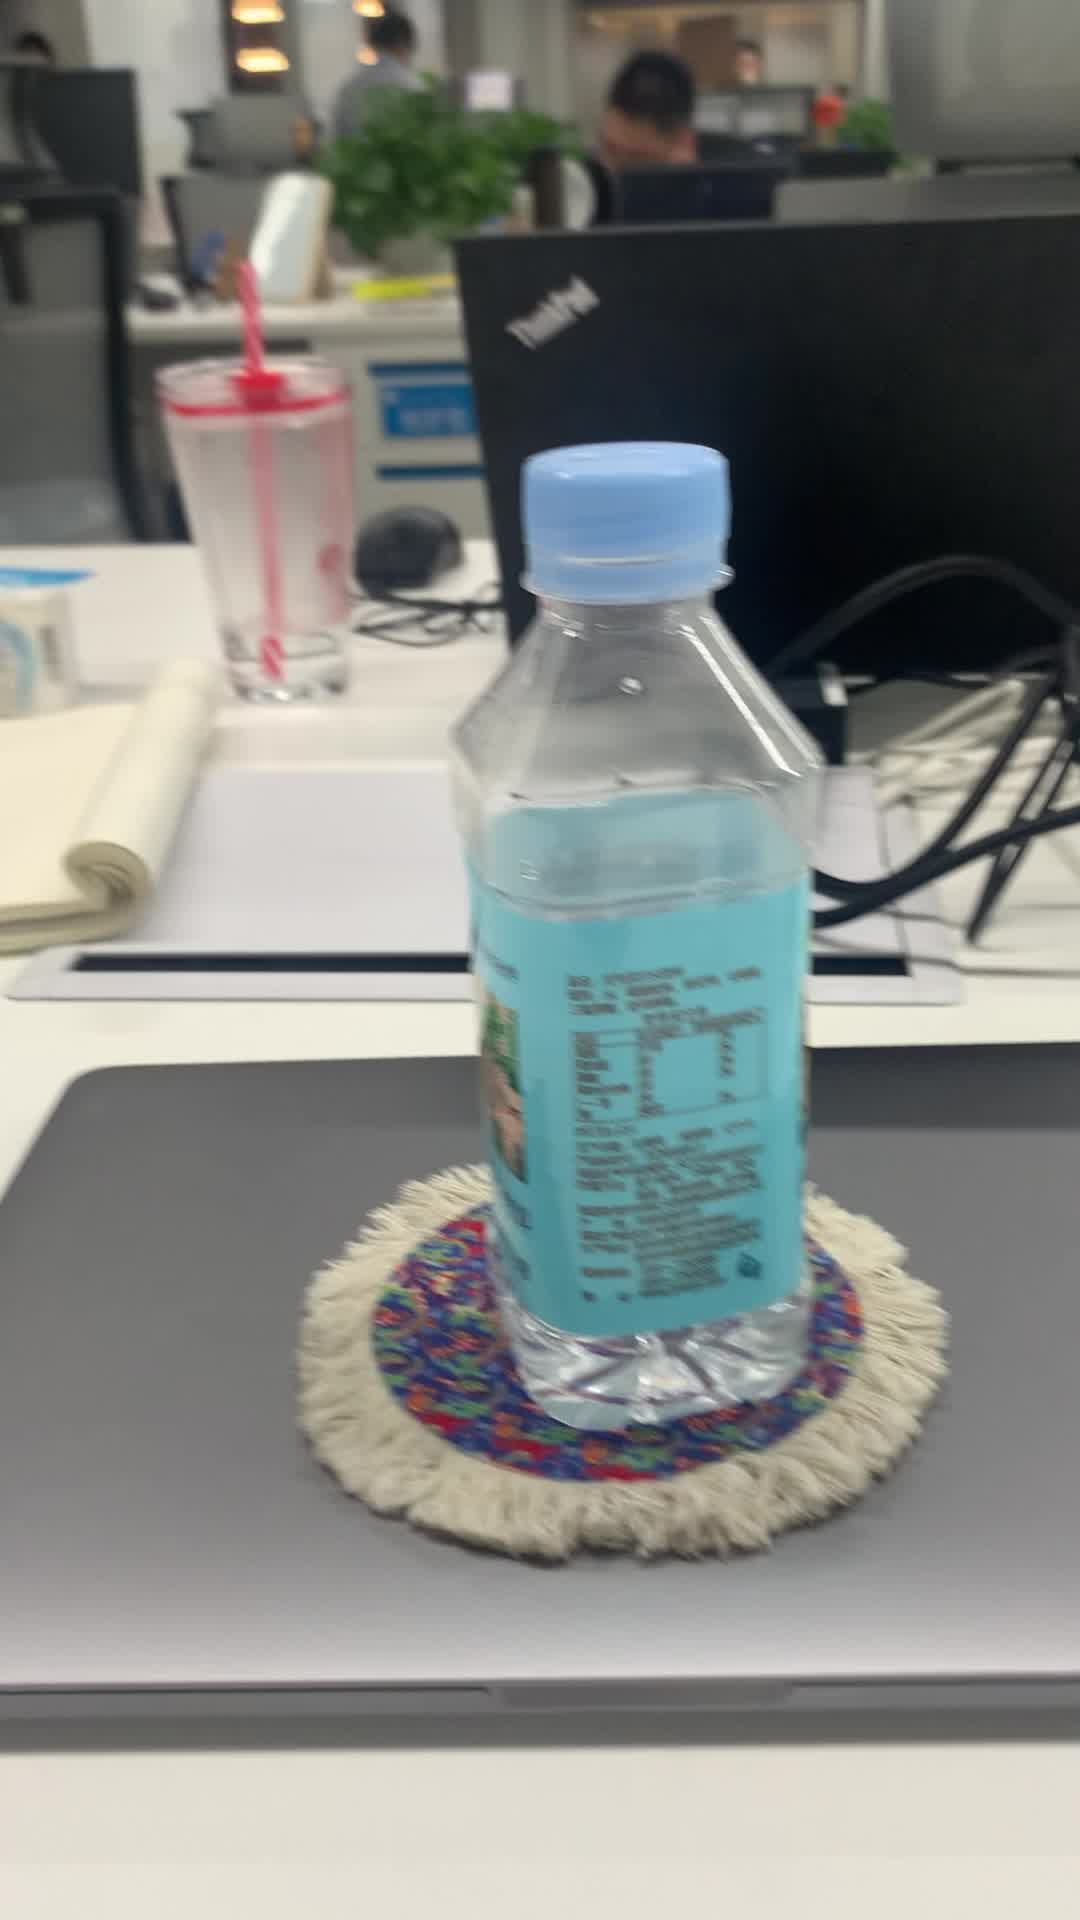水瓶: (435, 436, 831, 1437)
